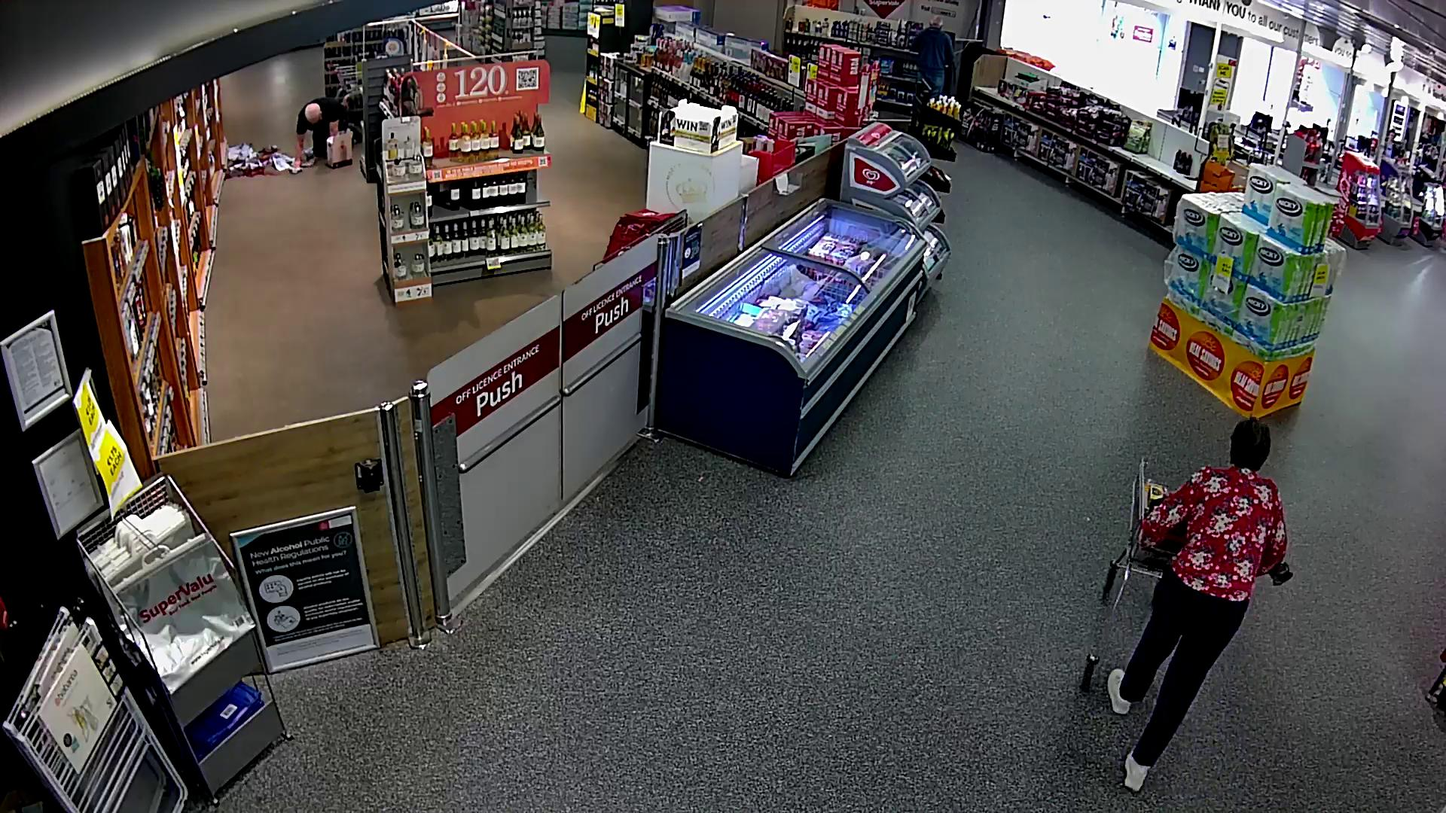filled-trolly: (1081, 456, 1218, 690)
person: (1109, 419, 1289, 793)
person-with-filled-basket-trolly: (1081, 419, 1289, 793)
